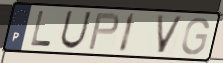G: (180, 16, 211, 57)
I: (117, 11, 138, 55)
L: (29, 9, 52, 48)
P: (86, 12, 121, 52)
U: (58, 9, 94, 50)
V: (155, 14, 186, 55)
